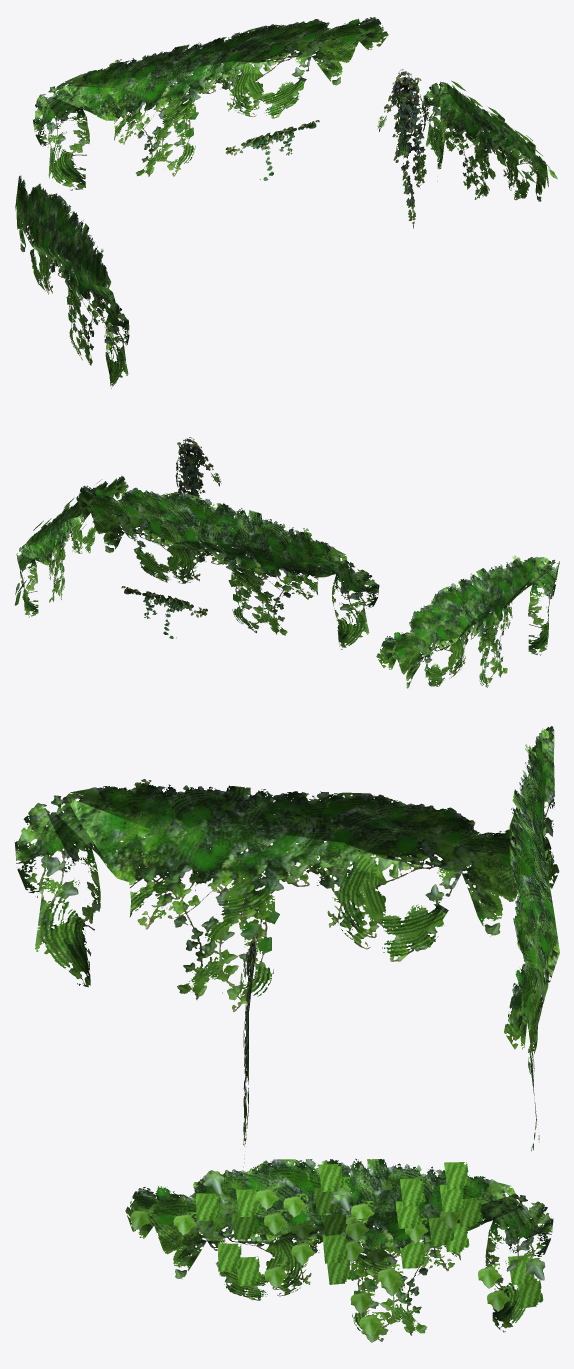
File: hanging ivy.glb
3 views of the same model, one above another, from view 1: azimuth 30°, elevation 25°; view 2: azimuth 150°, elevation 25°; view 3: azimuth 270°, elevation 25° (orthographic). The views are drawn at different scales.
Visible parts, largest first — view 1: Object_10.003, Object_10.002, Object_12.001, Object_6.003, Object_4.004; view 2: Object_10.003, Object_10.002, Object_12.001, Object_6.003, Object_4.004; view 3: Object_10.002, Object_12.001, Object_10.003, Object_6.003.
Boxes of the visible parts, left/top/right/bottom form: Object_10.003: left=33, top=17, right=388, bottom=190; Object_10.002: left=15, top=175, right=129, bottom=388; Object_12.001: left=423, top=80, right=557, bottom=201; Object_6.003: left=377, top=69, right=437, bottom=228; Object_4.004: left=225, top=120, right=319, bottom=180; Object_10.003: left=76, top=485, right=379, bottom=649; Object_10.002: left=376, top=555, right=559, bottom=688; Object_12.001: left=14, top=476, right=128, bottom=617; Object_6.003: left=175, top=437, right=221, bottom=553; Object_4.004: left=121, top=586, right=207, bottom=638; Object_10.002: left=14, top=779, right=559, bottom=1011; Object_12.001: left=125, top=1158, right=553, bottom=1342; Object_10.003: left=504, top=726, right=559, bottom=1073; Object_6.003: left=239, top=928, right=258, bottom=1166.
Bounding box in the file's own units: 4.3 × 1.89 × 2.42.
Materials: 1 (1 with a texture image).
